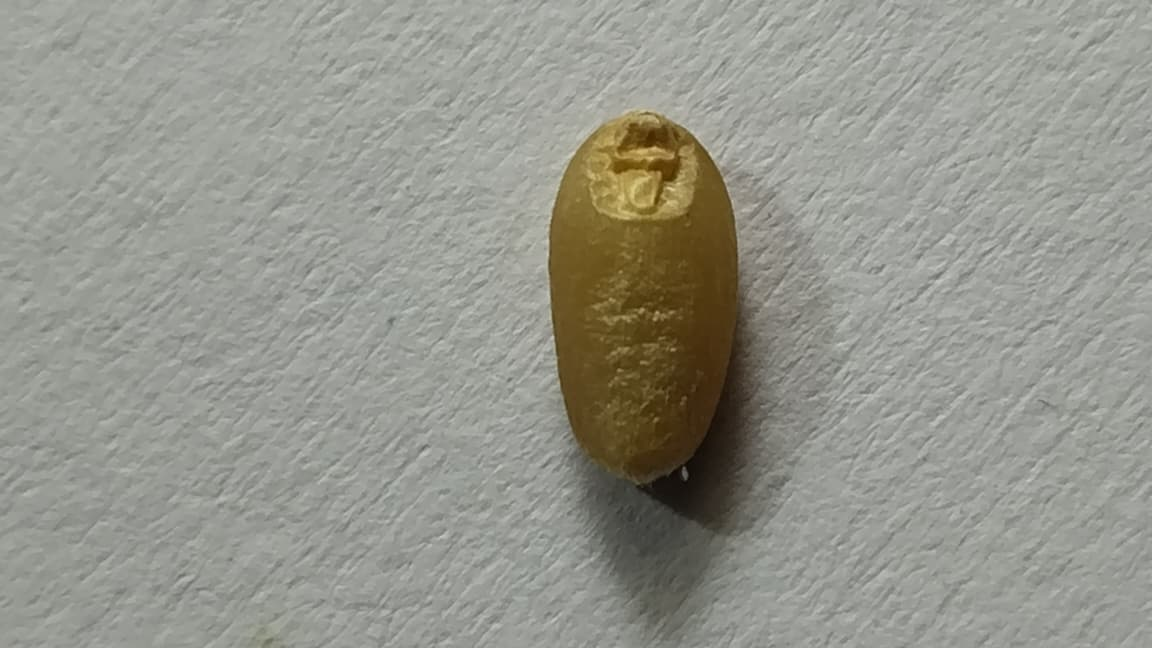healthy: (548, 110, 739, 482)
